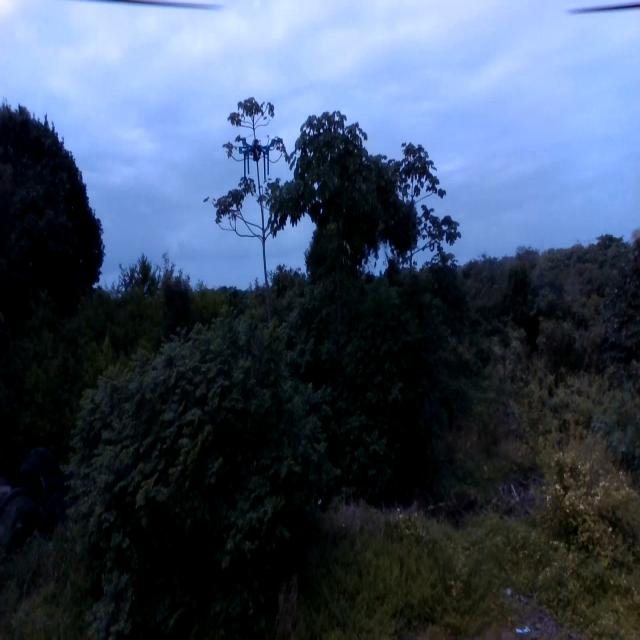-uav-: (230, 126, 278, 185)
